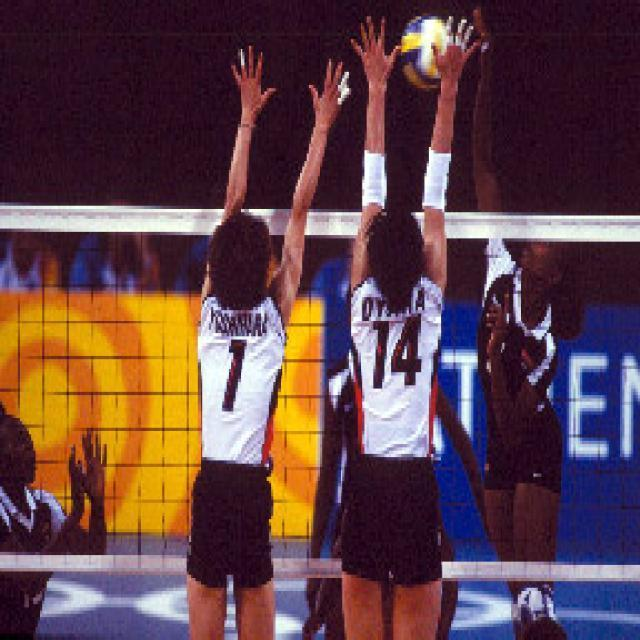volleyball: (399, 16, 447, 90)
